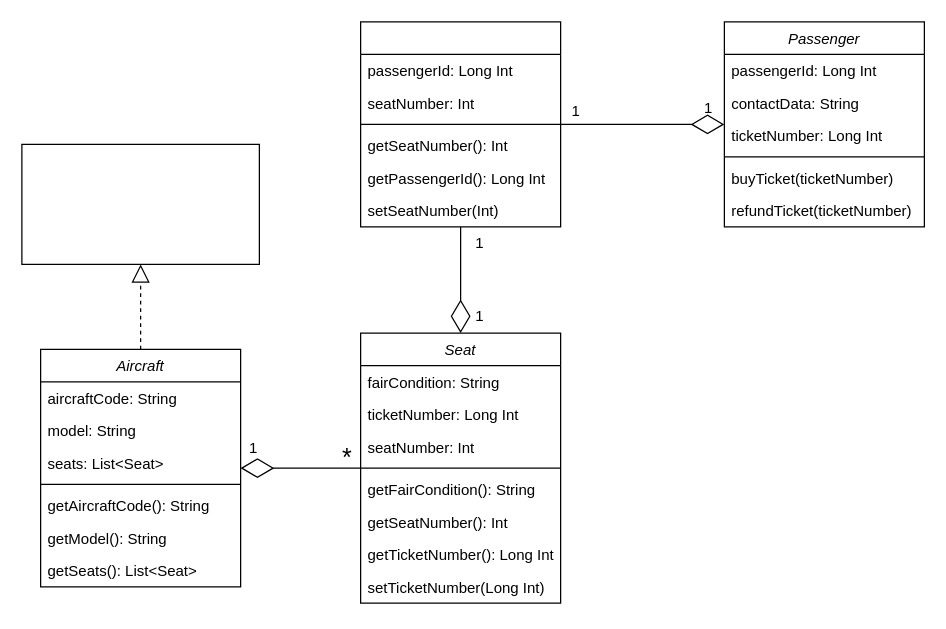
The diagram is 946 pixels wide and 629 high, and some of its shapes have lost their labels. The shapes that lost their labels are listed below. From the top down, each one's box as (x1, y1, x2, y2) in pixels, then its label:
(359, 21, 561, 227): Ticket
(21, 143, 259, 264): <<Interface>> Flyable + range: Int + fly()
